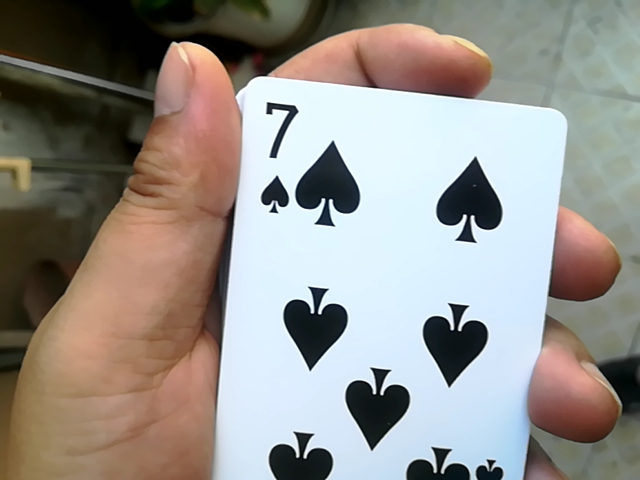ht 7: (216, 82, 549, 476)
